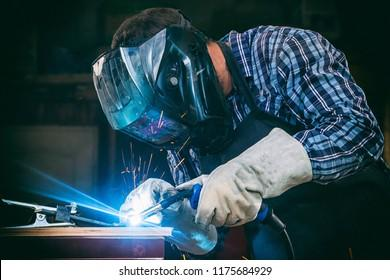gloves: (173, 126, 315, 227), (118, 177, 218, 256)
